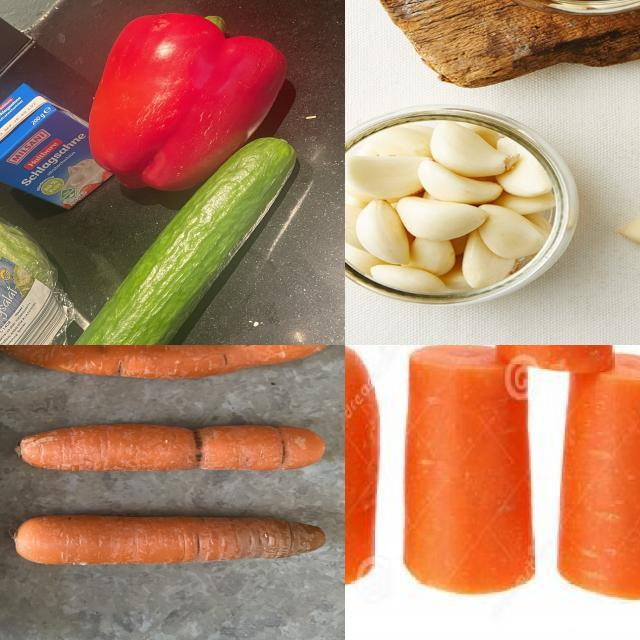bell_pepper: (85, 1, 299, 179)
carrot: (406, 347, 543, 593), (1, 421, 327, 488), (555, 351, 640, 602), (1, 346, 336, 408), (7, 512, 337, 574)
cucumber: (81, 133, 326, 346)
garlic: (346, 126, 561, 292)
